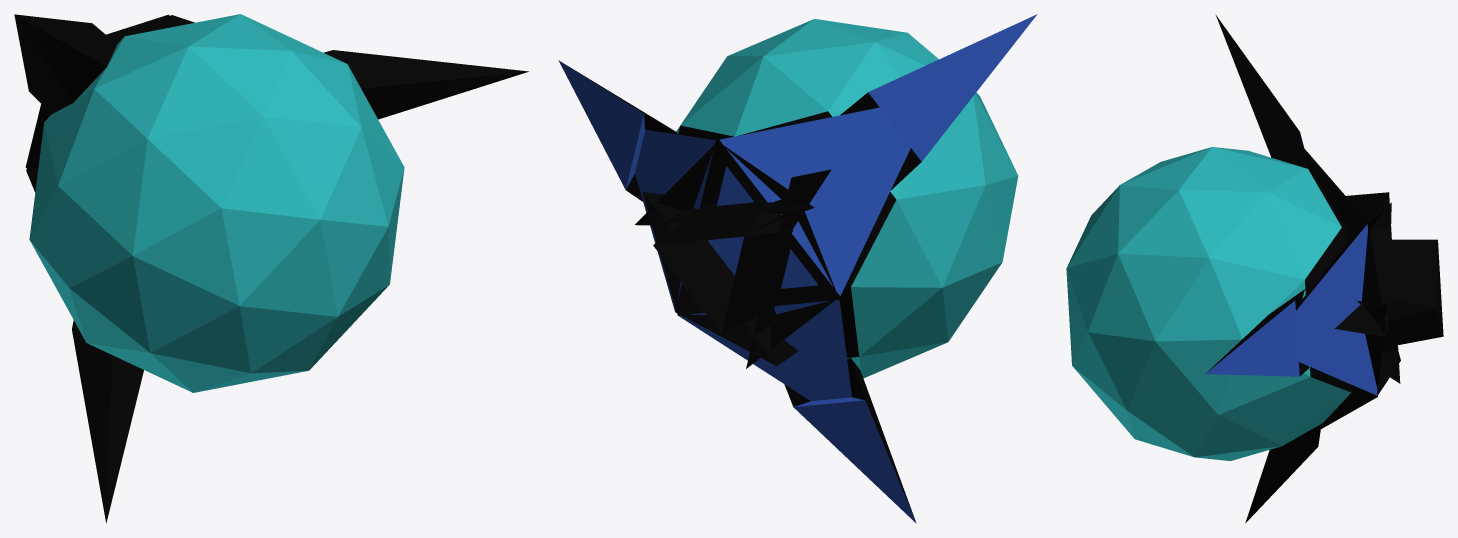
The model's file is boss.obj.
The picture shows the model from 3 angles, left to right: view 1: azimuth 30°, elevation 25°; view 2: azimuth 150°, elevation 25°; view 3: azimuth 270°, elevation 25°; orthographic projection. The views are drawn at different scales.
Visible parts, largest first — view 1: ICO球; view 2: ICO球; view 3: ICO球.
Part boxes in pixels (<box>): ICO球: <box>14,14,528,523</box>; ICO球: <box>558,14,1037,523</box>; ICO球: <box>1066,15,1443,523</box>.
Size of the model in its own units: 3.08 by 3.17 by 2.33.
